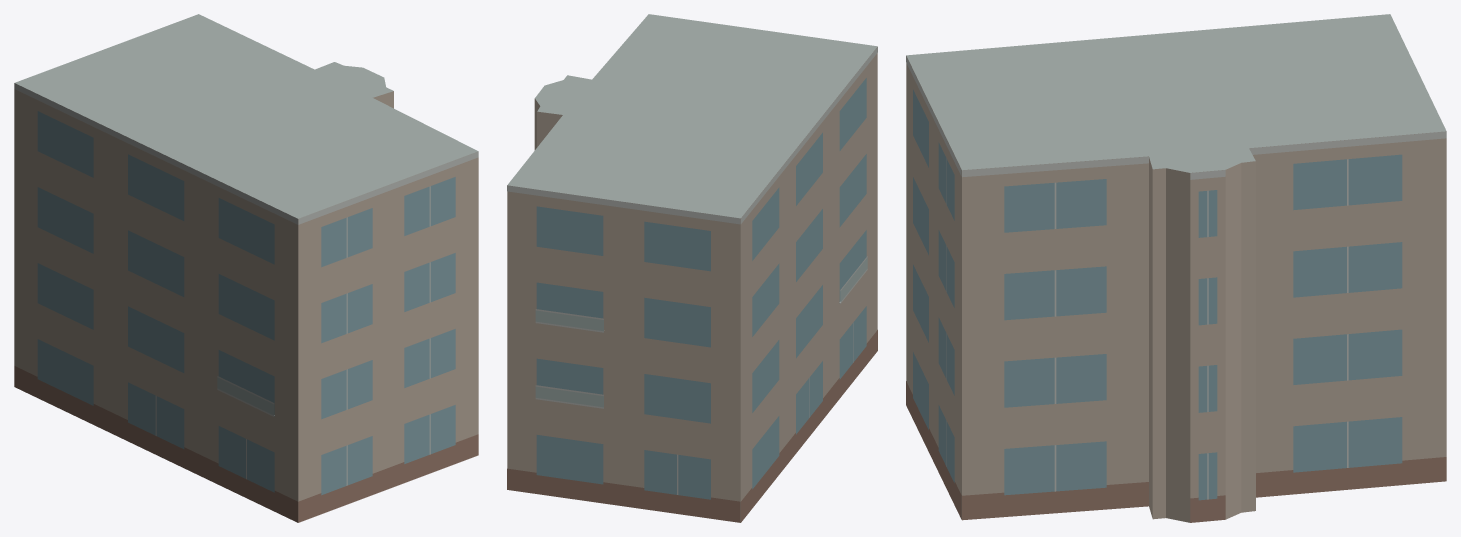
Rendered from survey-upis-32644791.glb.
3 views of the same model, side by side, from view 1: azimuth 30°, elevation 25°; view 2: azimuth 150°, elevation 25°; view 3: azimuth 270°, elevation 25° (orthographic). The views are drawn at different scales.
Parts seen in each view (by area): view 1: survey-upis-32644791.tmp; view 2: survey-upis-32644791.tmp; view 3: survey-upis-32644791.tmp.
Boxes of the visible parts, x1=… form: survey-upis-32644791.tmp: x1=14, y1=14, x2=478, y2=522; survey-upis-32644791.tmp: x1=507, y1=14, x2=877, y2=522; survey-upis-32644791.tmp: x1=906, y1=14, x2=1446, y2=522.
Bounding box in the file's own units: 11.89 × 12.2 × 17.09.
